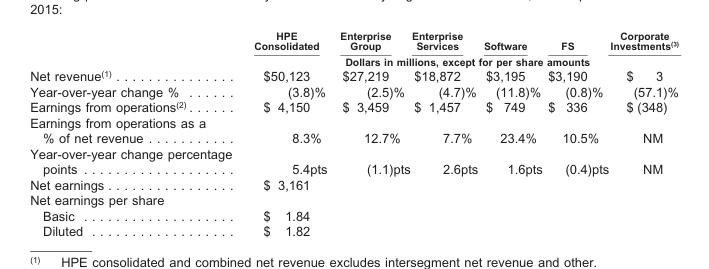table: (29, 29, 678, 238)
table column: (29, 29, 242, 238), (242, 29, 332, 238), (332, 29, 410, 238), (410, 29, 480, 238), (608, 29, 678, 238), (480, 29, 544, 238), (544, 29, 608, 238)
table column header: (29, 29, 678, 67)
table projected row header: (29, 192, 678, 207)
table row: (29, 114, 678, 145), (29, 145, 678, 176), (29, 29, 678, 53), (29, 67, 678, 83), (29, 98, 678, 114), (29, 176, 678, 192), (29, 207, 678, 223), (29, 83, 678, 98), (29, 192, 678, 207), (29, 223, 678, 238), (29, 53, 678, 67)
table spanning cell: (242, 53, 678, 67)
